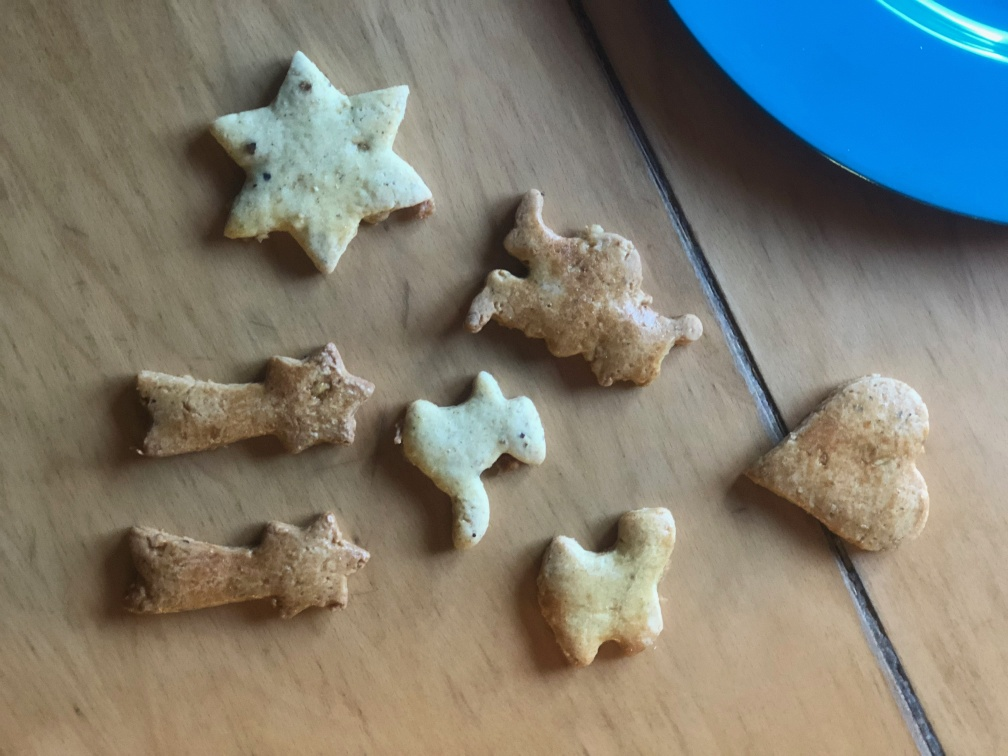heart: (743, 372, 932, 554)
lamb: (533, 500, 673, 670)
santa claus: (463, 188, 703, 391)
shooting star: (133, 340, 373, 468), (119, 511, 367, 632)
squirrel: (398, 372, 543, 548)
star: (206, 49, 430, 278)
